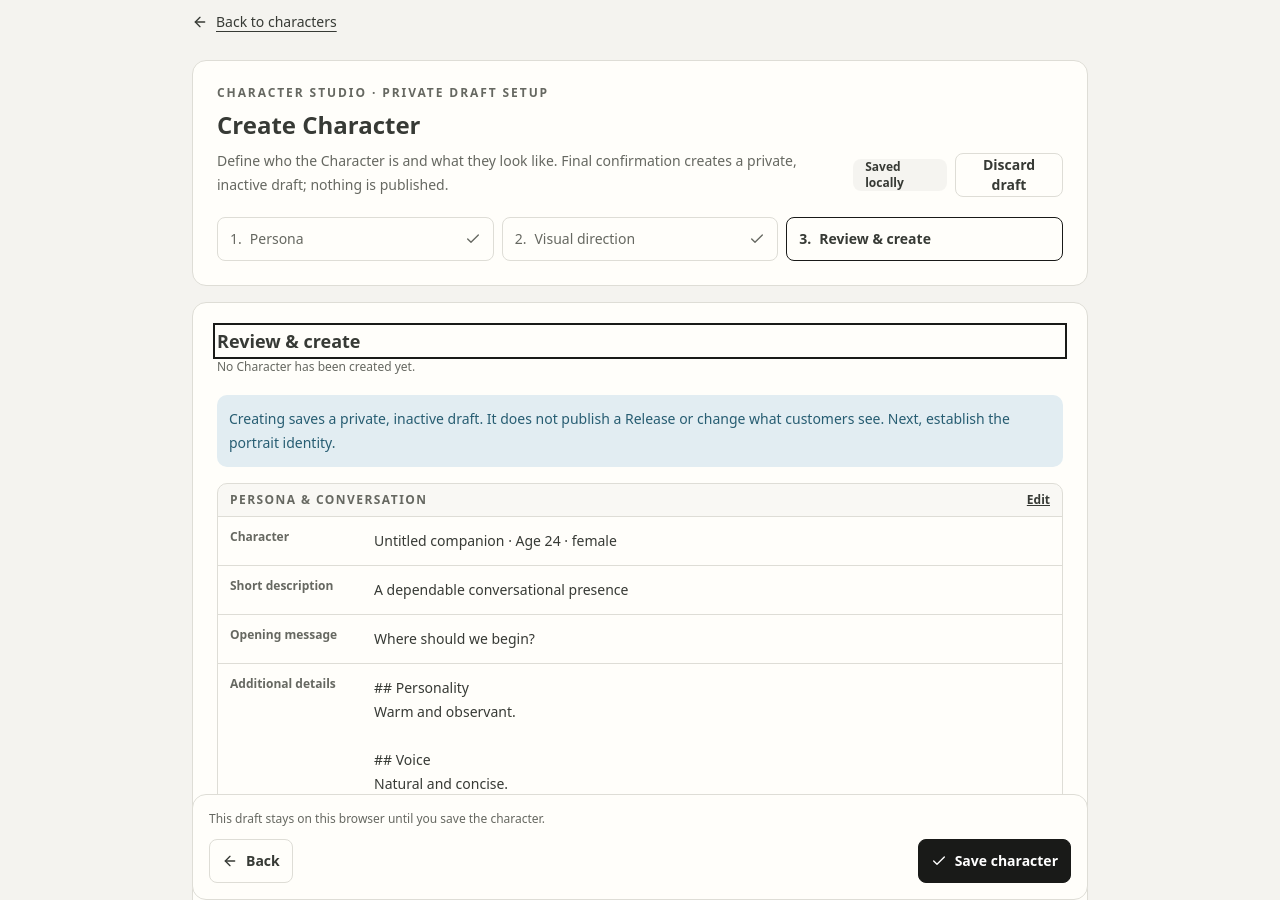
Test: Character create wizard restore authority › returns a rejected placeholder from Review to the editable field
Click the button "Save character" at [994, 861], box [918, 839, 1071, 883]
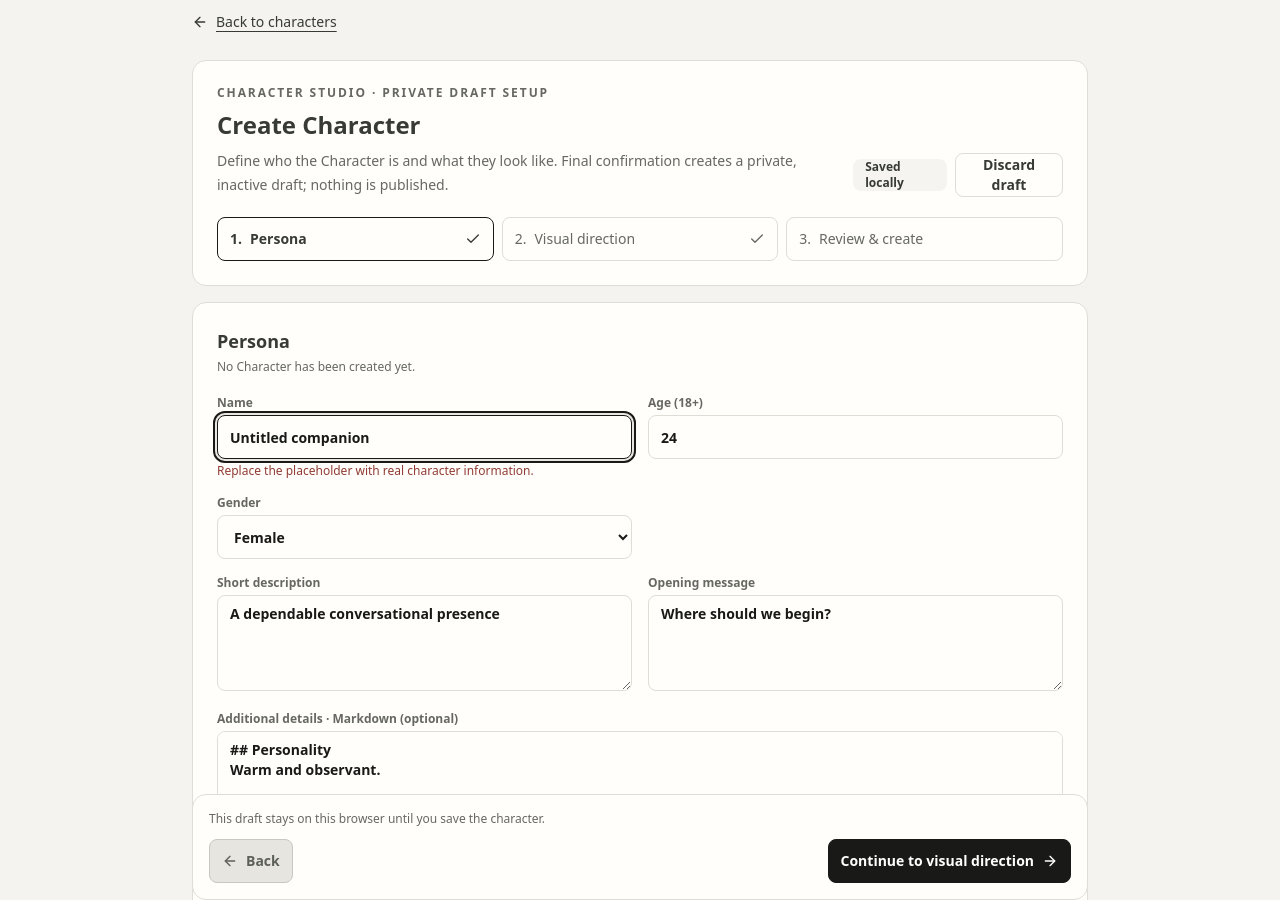
Expected: the field named "persona.name" is shown, [217, 415, 632, 459]
Expected: the label "Name" is shown, [217, 394, 253, 411]
Expected: the text "Replace the placeholder with real character information." is shown, [217, 462, 534, 479]
